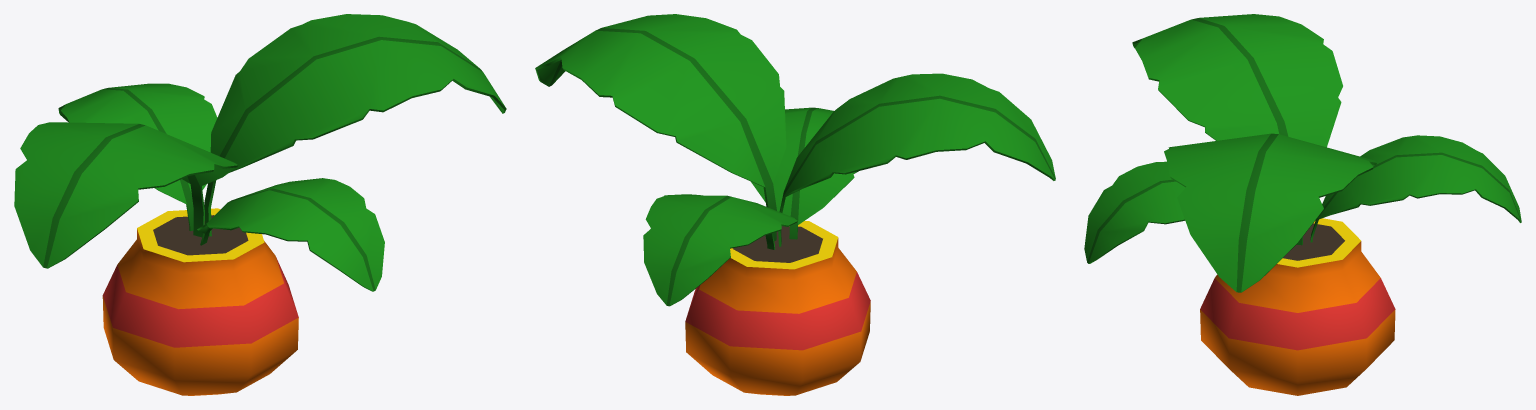
The model's file is Pot_Plant.fbx.
3 renders of one model, left to right at view 1: azimuth 30°, elevation 25°; view 2: azimuth 150°, elevation 25°; view 3: azimuth 270°, elevation 25°, orthographic. The views are drawn at different scales.
Visible parts, largest first — view 1: Pot_Plant; view 2: Pot_Plant; view 3: Pot_Plant.
Boxes of the visible parts, x1,y1,x2,y2 form: Pot_Plant: (14, 14, 506, 395); Pot_Plant: (535, 14, 1055, 395); Pot_Plant: (1084, 14, 1521, 395).
Bounding box in the file's own units: 1.25 × 0.7524 × 0.9765.
